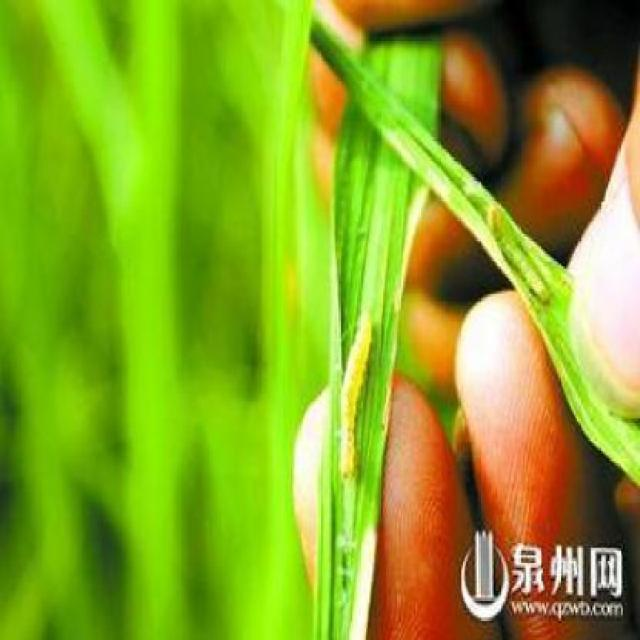leaf-folder: (314, 272, 392, 503), (449, 168, 557, 321)
